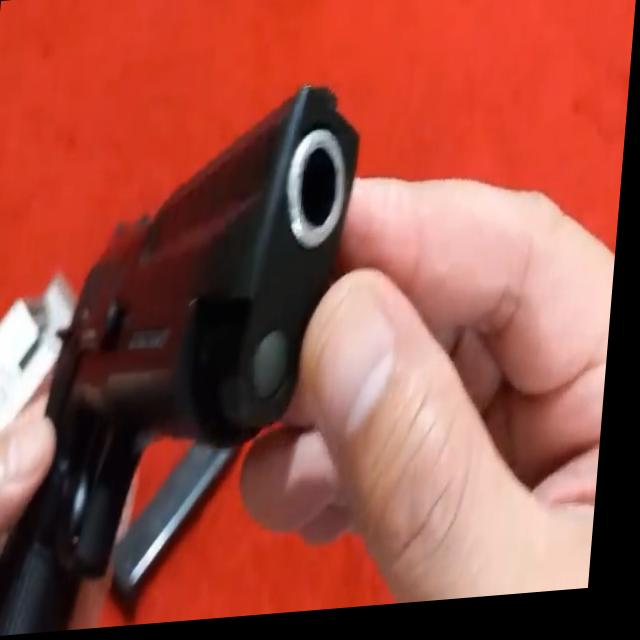handgun: (27, 67, 374, 569)
